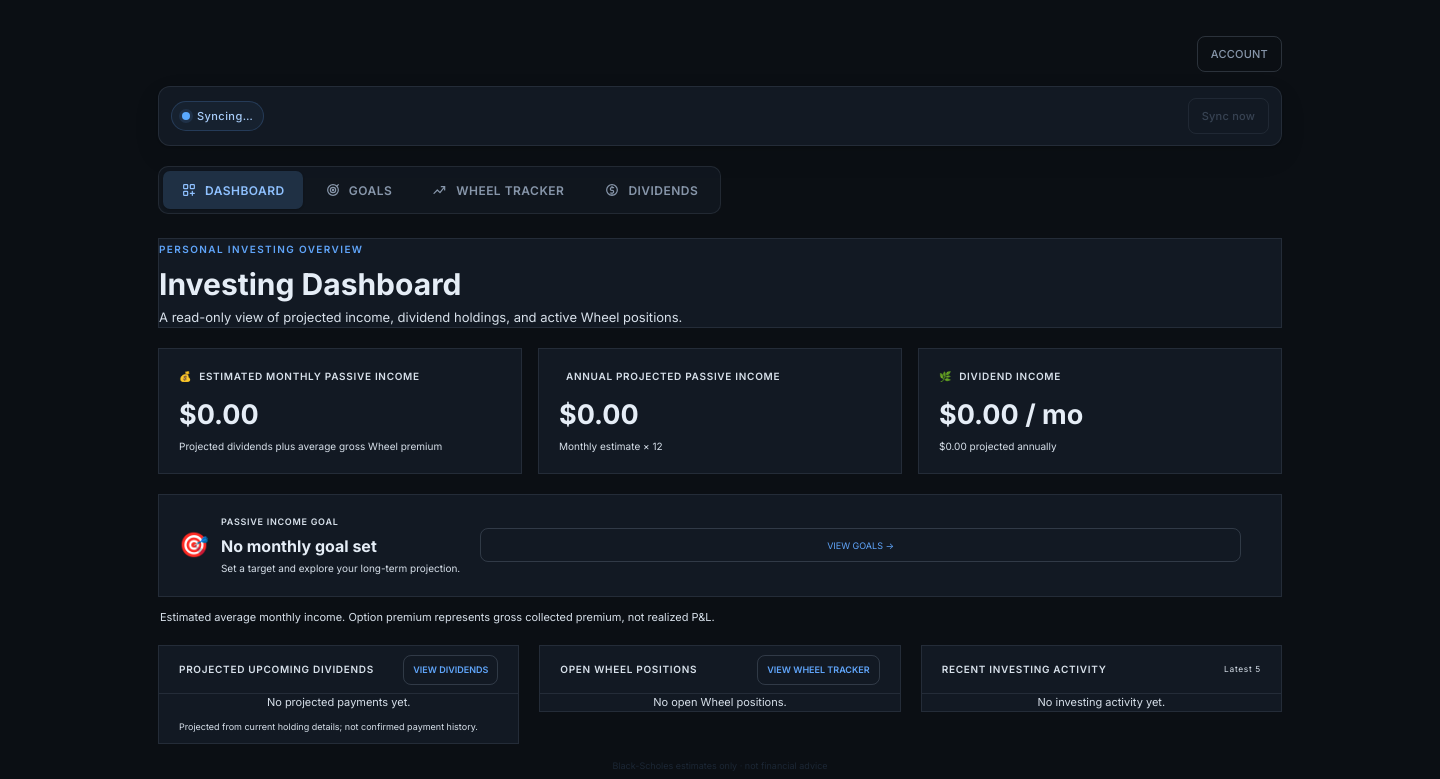
opens the new Dashboard by default on desktop without changing the mobile shell
The image size is (1440, 779).
Expected: the heading "Investing Dashboard" is shown, [159,266,462,302]
Click the button "GOALS" at coordinates (359, 190), box [307,171,410,209]
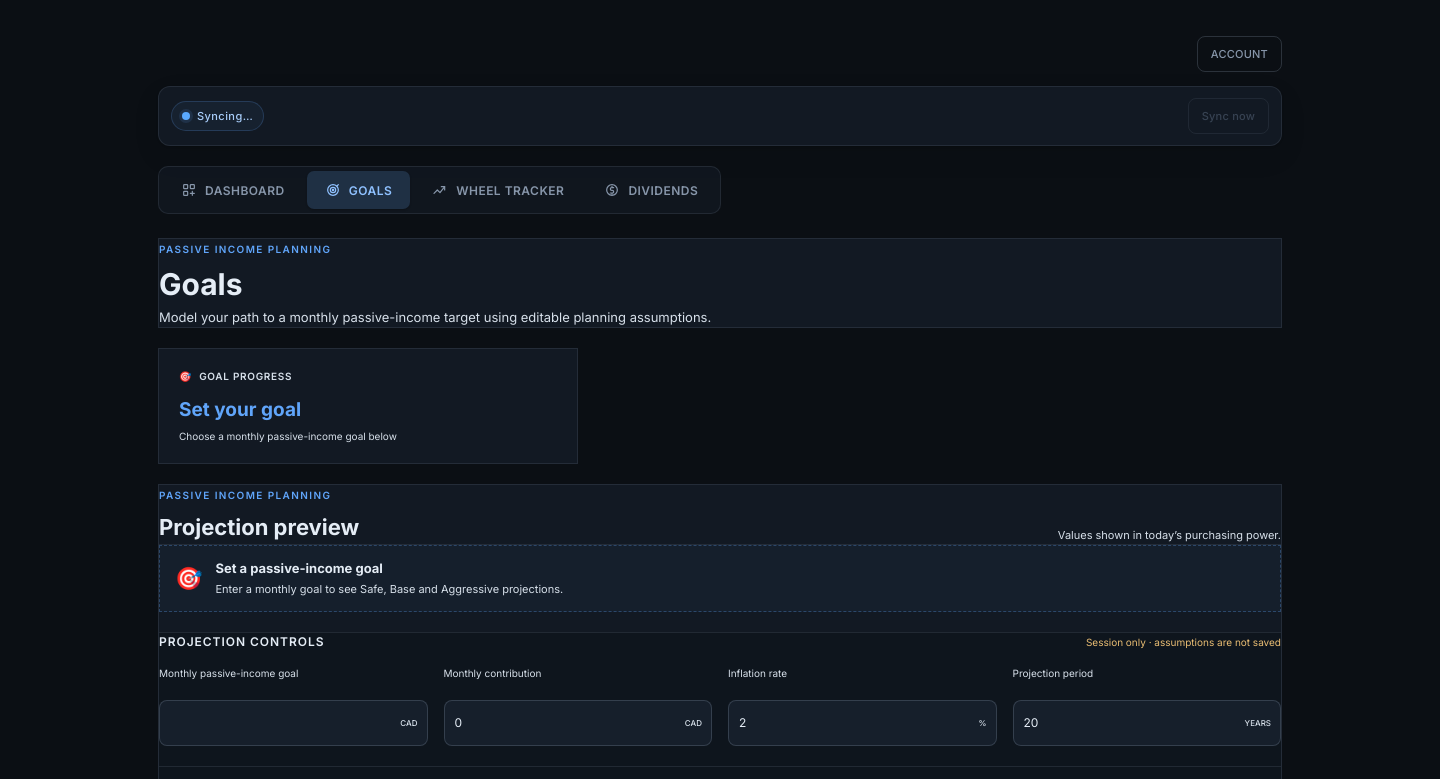
Type "3500" into the number field labelled "Monthly passive-income goal" at coordinates (276, 723), box [160,701,391,745]
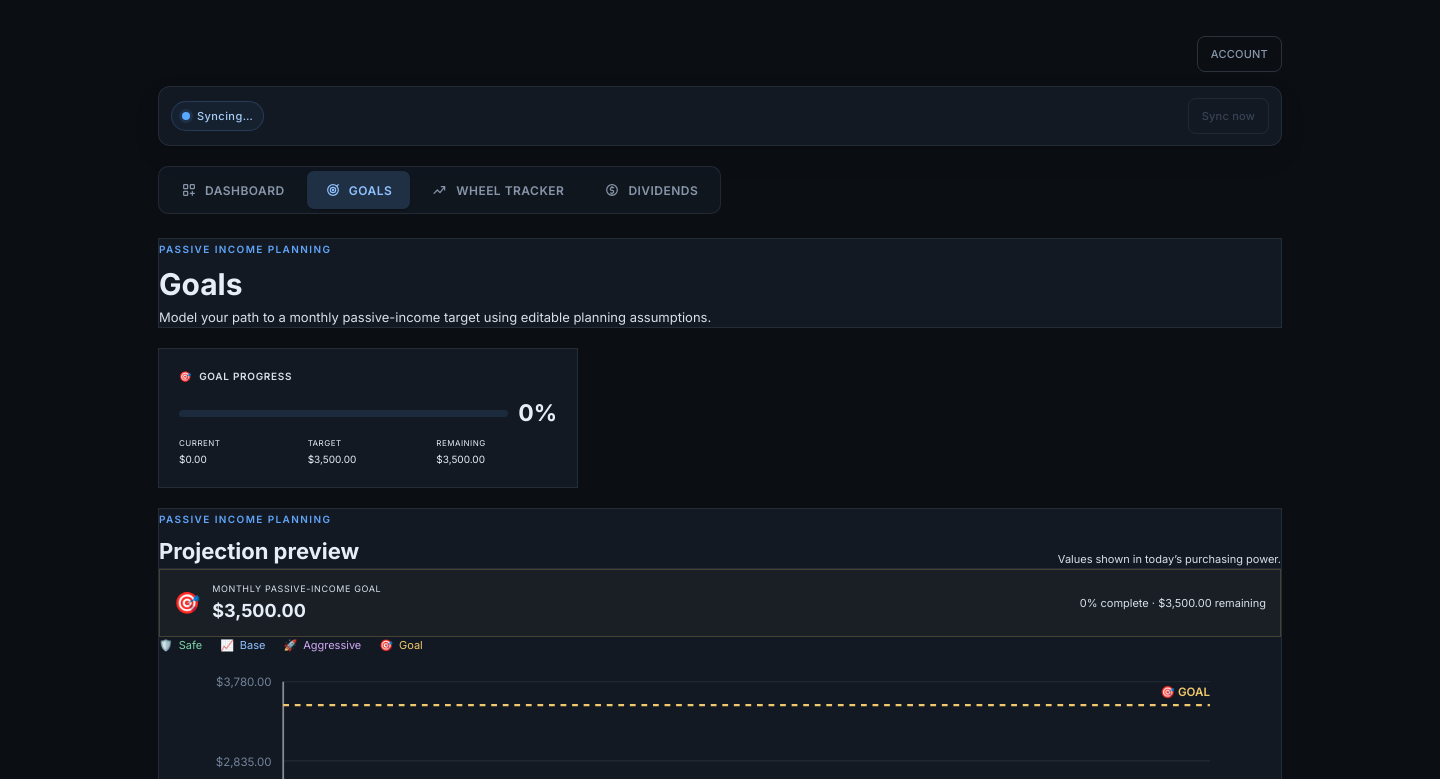
Click the button "WHEEL TRACKER" at coordinates (498, 190), box [414,171,582,209]
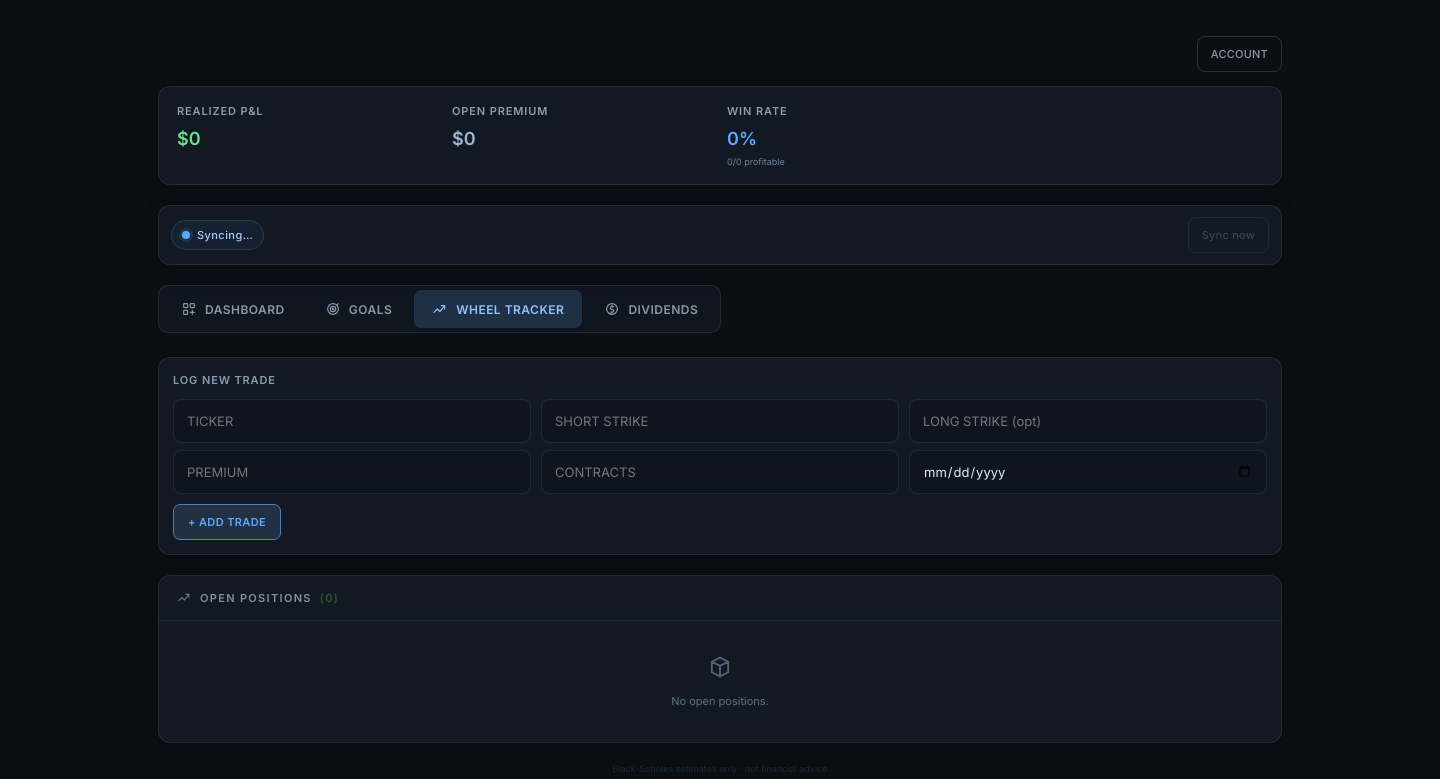
Click the button "GOALS" at coordinates (359, 309), box [307,290,410,328]
(page scrolled)
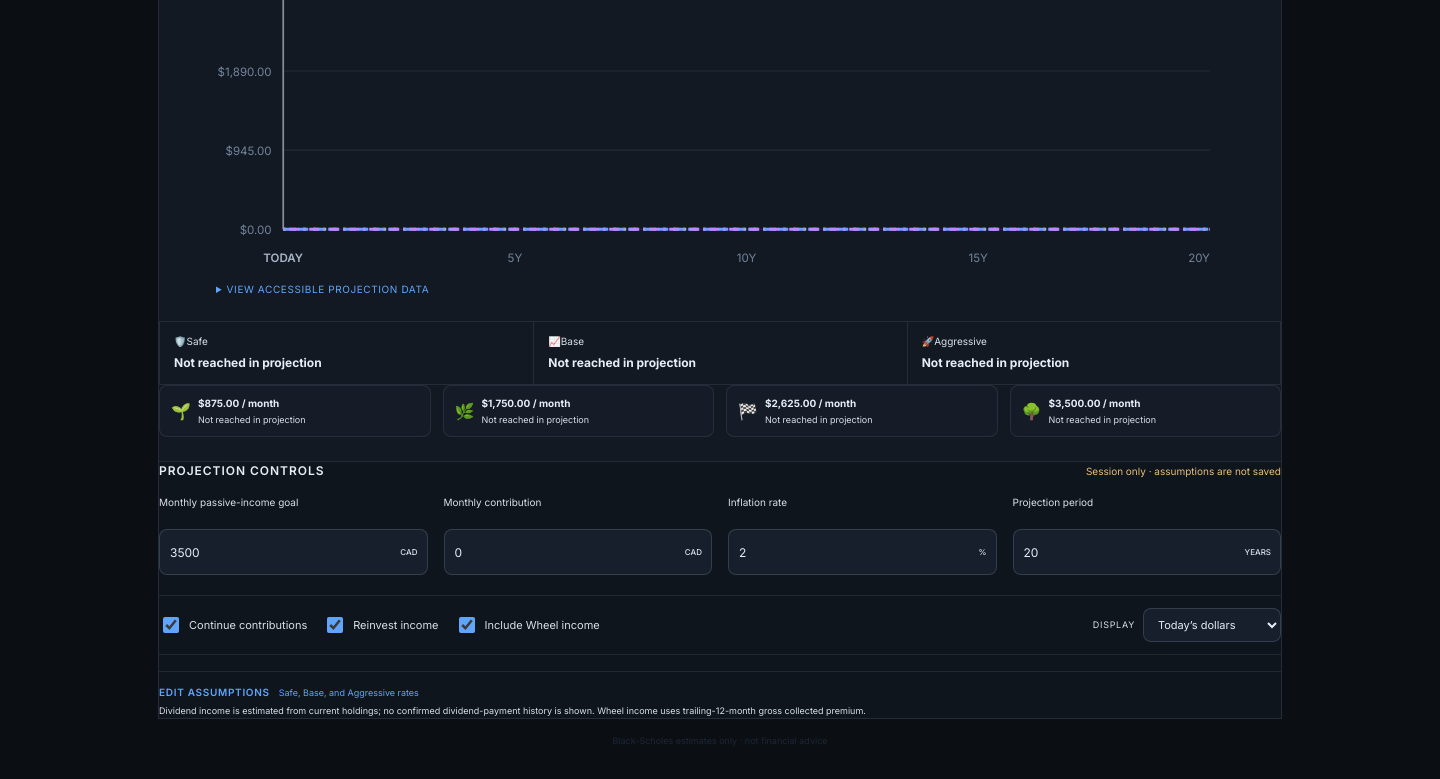
Result: the number field labelled "Monthly passive-income goal" holds "3500" at [160,530,391,574]
